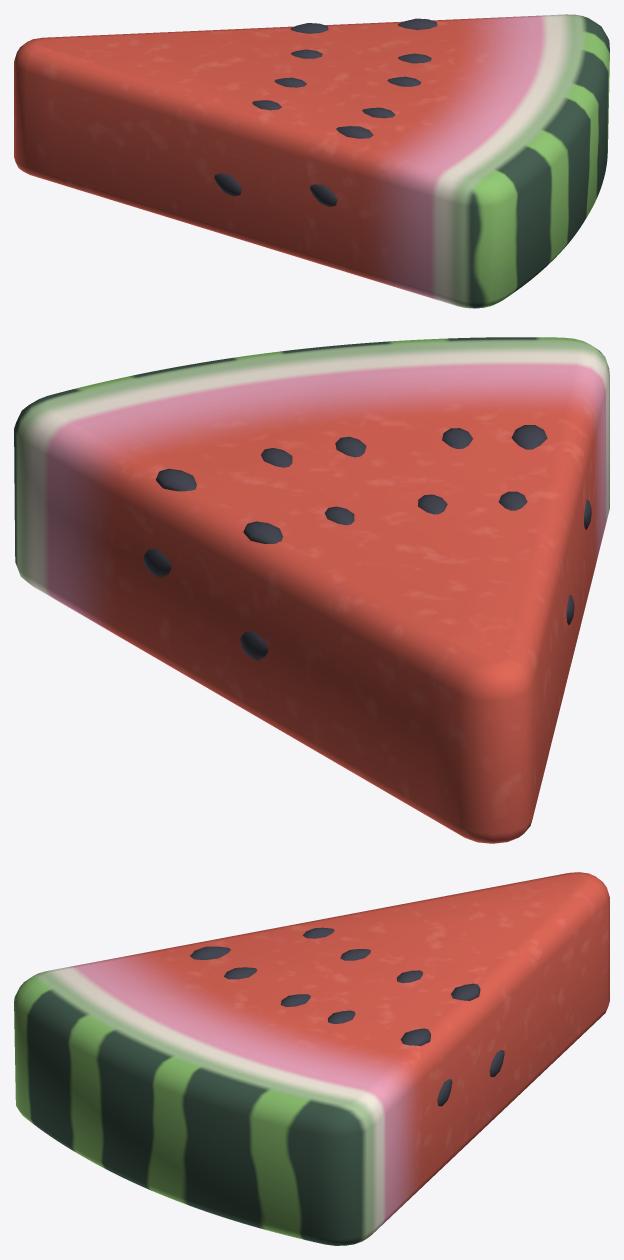
The model's file is watermelon-slice.glb.
The picture shows the model from 3 angles, top to bottom: view 1: azimuth 30°, elevation 25°; view 2: azimuth 150°, elevation 25°; view 3: azimuth 270°, elevation 25°; orthographic projection. The views are drawn at different scales.
Visible parts, largest first — view 1: watermelon-slice_body; view 2: watermelon-slice_body; view 3: watermelon-slice_body.
Boxes of the visible parts, <box> form: watermelon-slice_body: <box>14,14,609,308</box>; watermelon-slice_body: <box>14,337,609,843</box>; watermelon-slice_body: <box>14,872,609,1245</box>.
Size of the model in its own units: 0.1113 by 0.0289 by 0.1113.
1 material, 1 textured.
